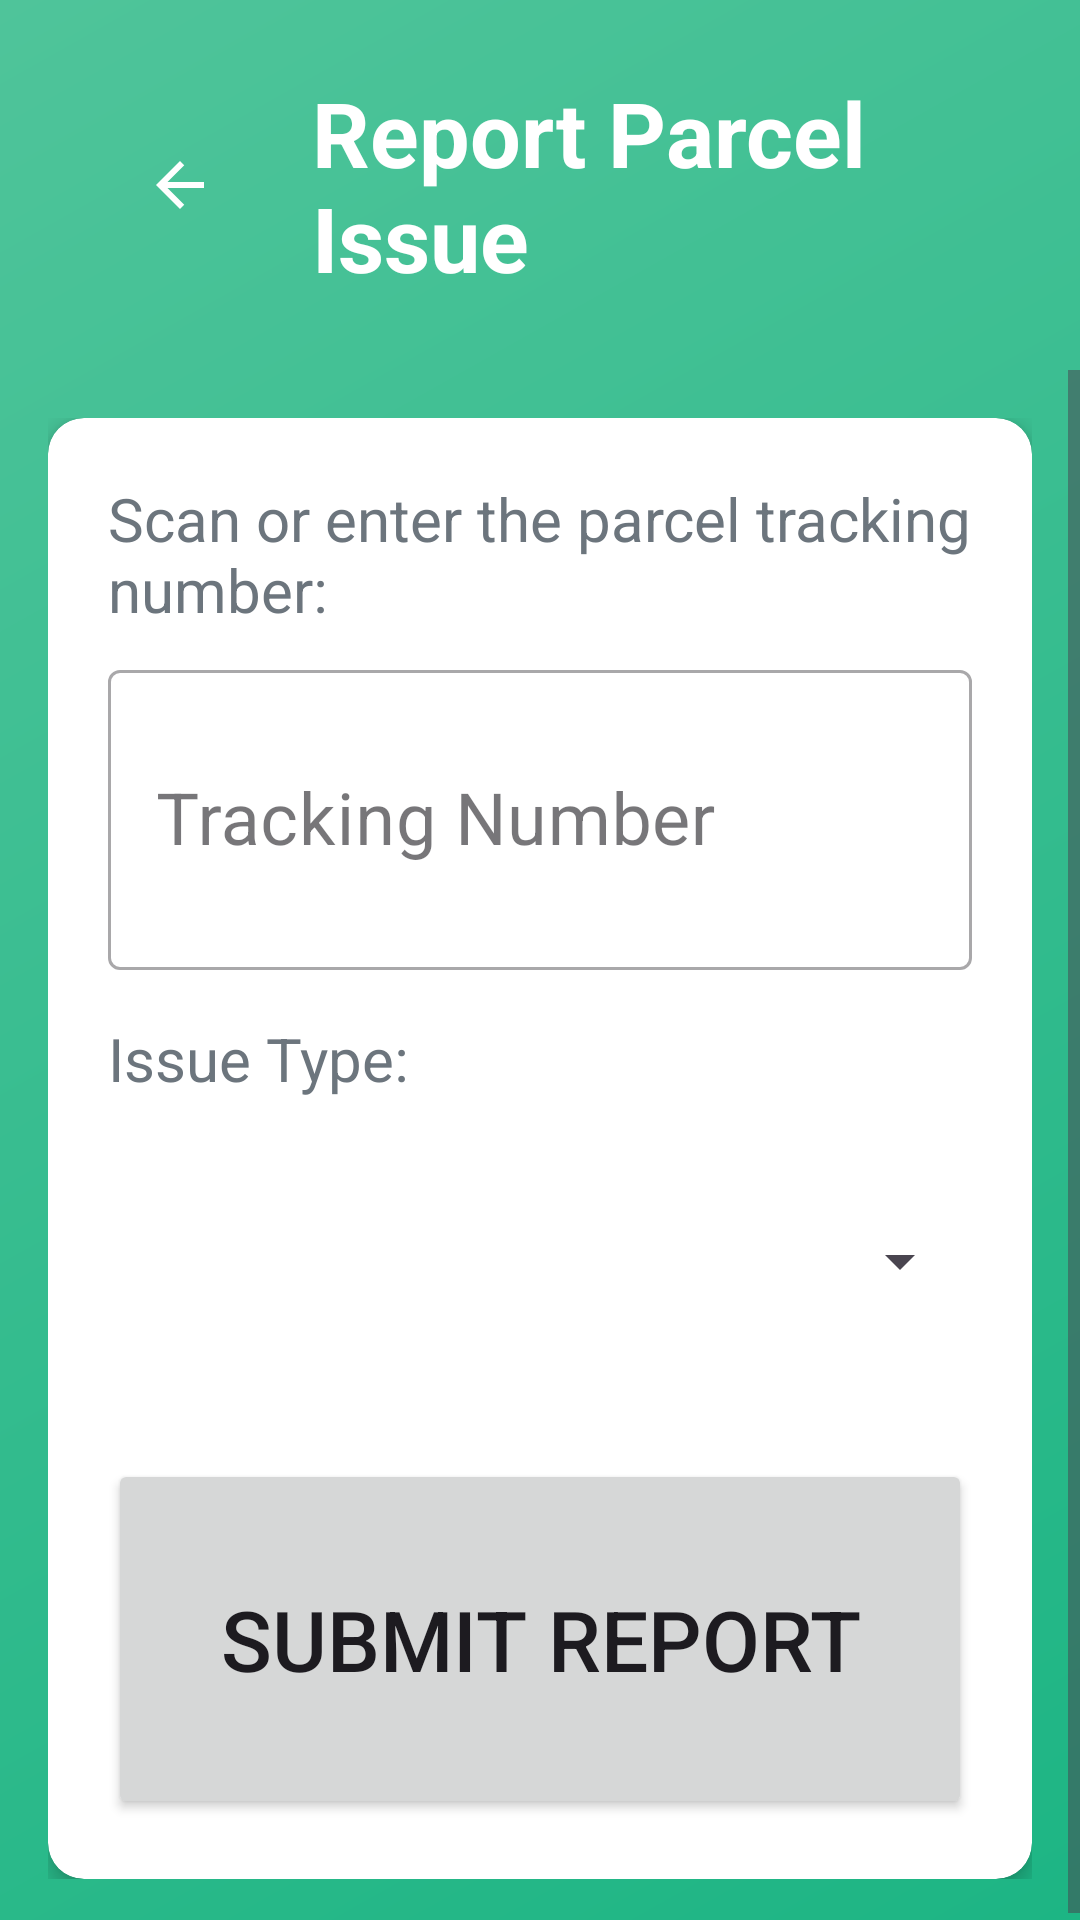

Icons on this 1080px x 1920px Android screen, each with the point to tap as (x=x, y=y):
Back: (x=180, y=185)
